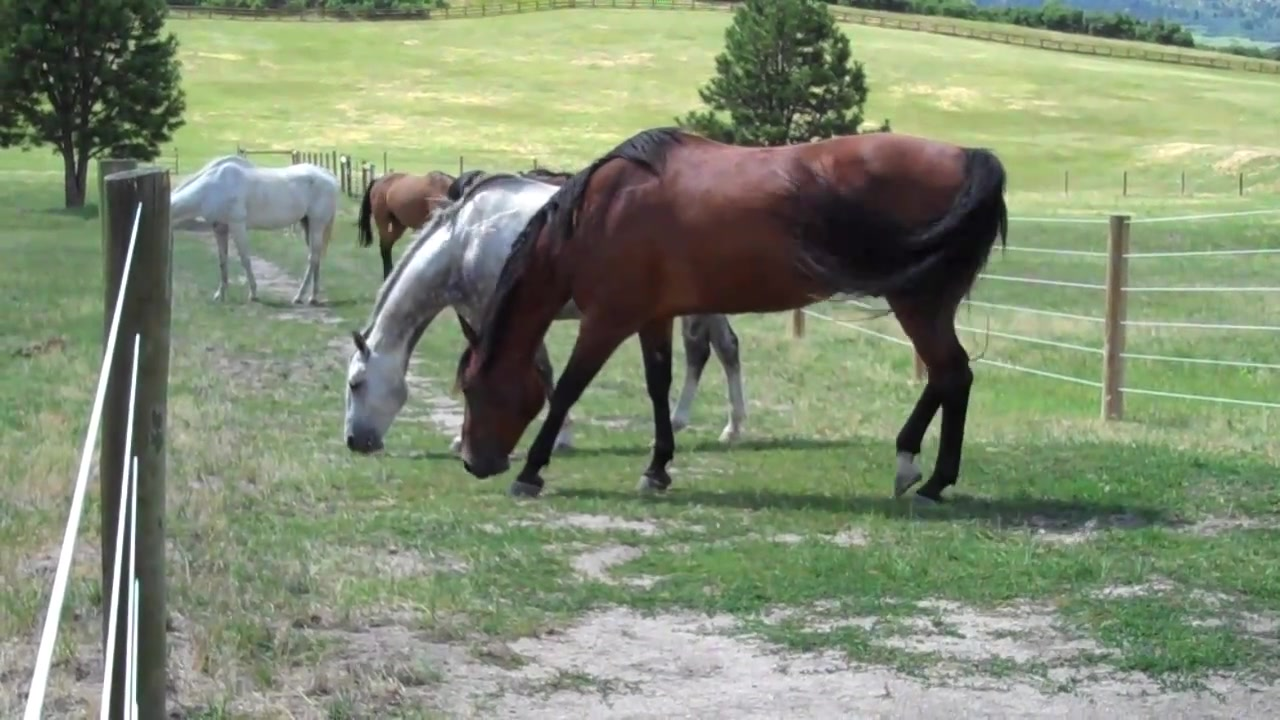horse: (454, 125, 1010, 513), (343, 172, 750, 458), (168, 161, 344, 309), (358, 170, 466, 282)
